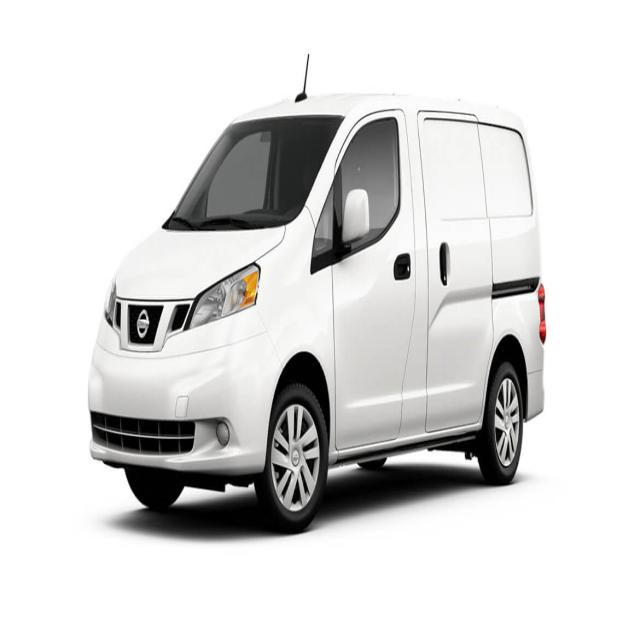truck: (87, 53, 547, 533)
